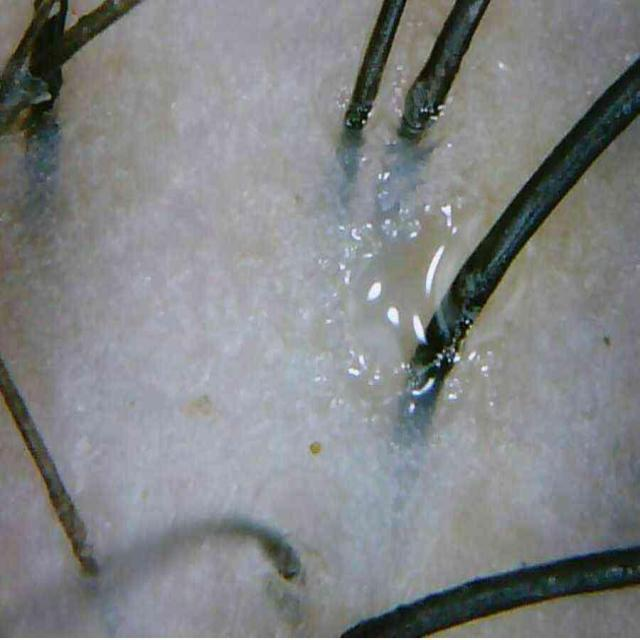o: (321, 202, 510, 425), (367, 87, 470, 201)
